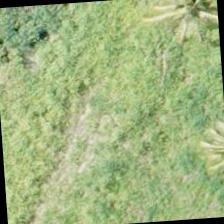Kelapa_Sawit: (147, 0, 221, 54)
